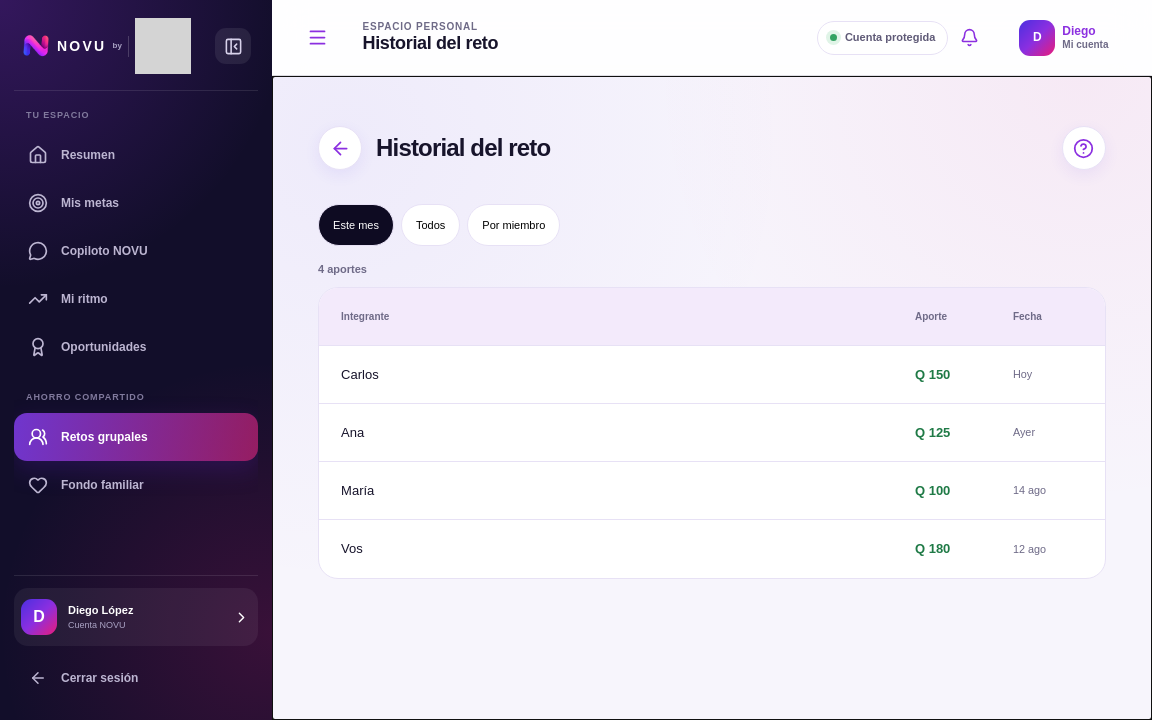
Test case: filtros de historiales › filtra el historial del reto por período e integrante
The image size is (1152, 720).
Check: the text "14 ago" is shown, box 1013,484 -> 1046,496
Check: the text "28 jul" is not shown
Click the button "Todos".
click(431, 225)  # box 401,204 -> 460,246
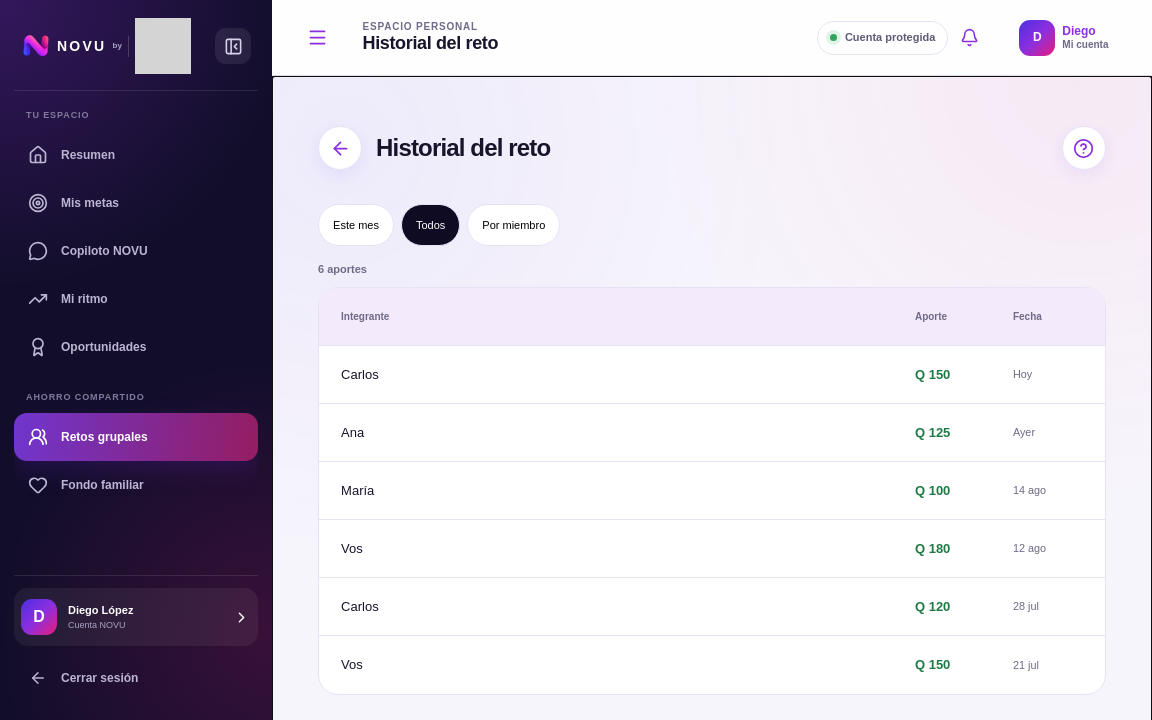
Check: the text "28 jul" is shown, box 1013,600 -> 1039,612
Click the button "Por miembro".
click(514, 225)  # box 467,204 -> 560,246
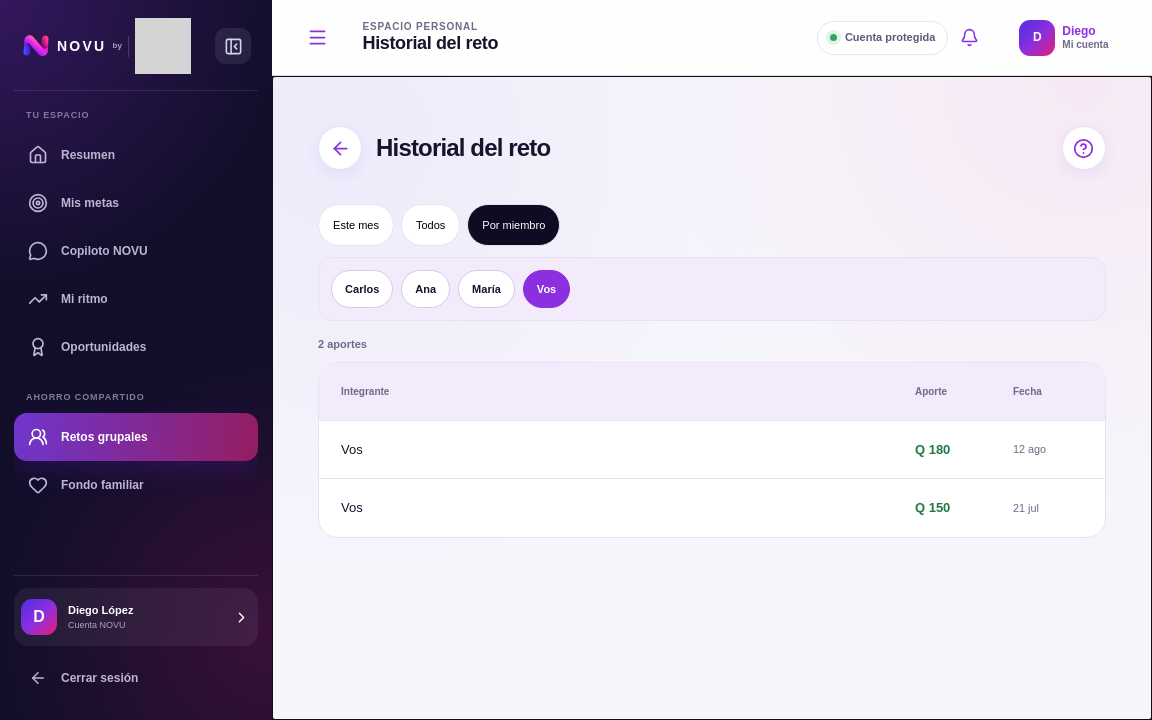
Click the button "Carlos".
click(362, 289)  # box 331,270 -> 393,308
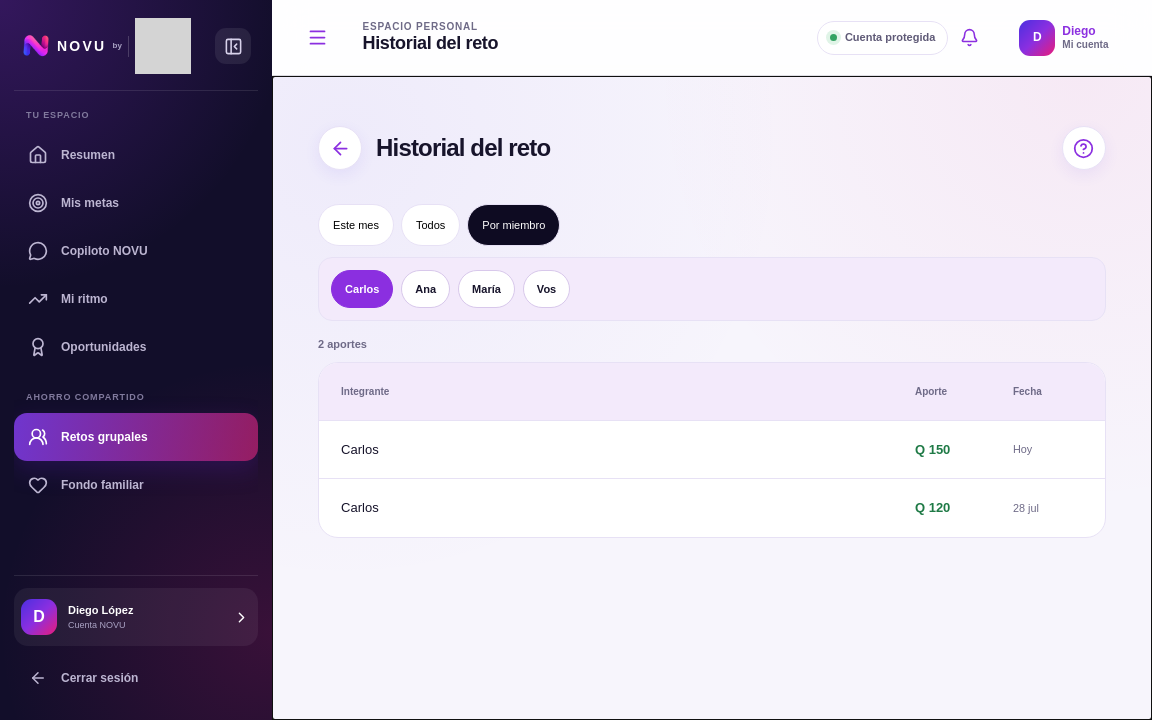
Check: the text "Q 125" is not shown
Check: the text "Q 120" is shown, box 915,500 -> 950,515
